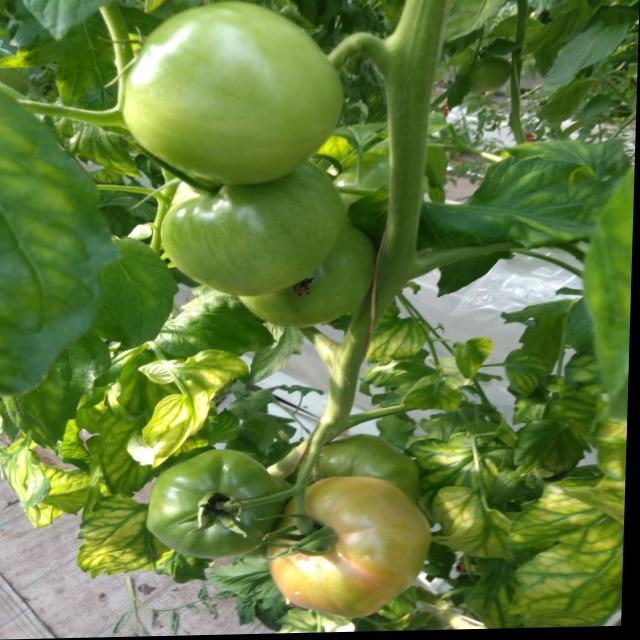yesil: (101, 0, 404, 329)
